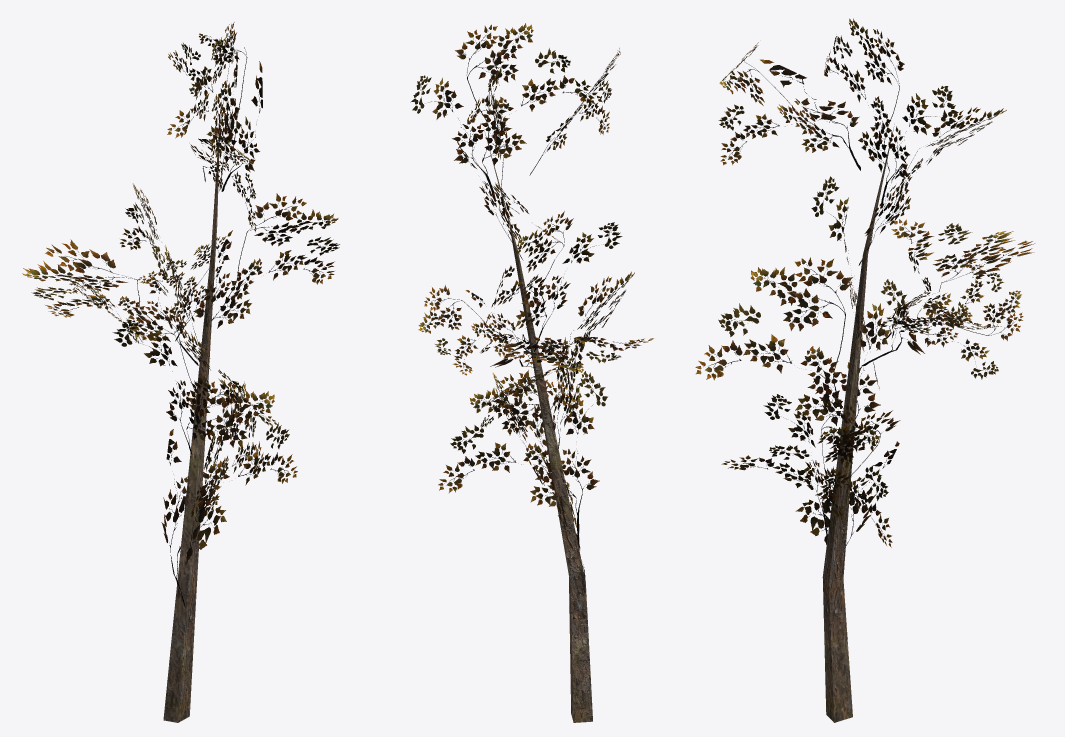
File: tree_2_lod.dae
3 views of the same model, side by side, from view 1: azimuth 30°, elevation 25°; view 2: azimuth 150°, elevation 25°; view 3: azimuth 270°, elevation 25° (orthographic). The views are drawn at different scales.
Visible parts, largest first — view 1: Mesh_Object; view 2: Mesh_Object; view 3: Mesh_Object.
Boxes of the visible parts, left/top/right/bottom form: Mesh_Object: left=22, top=22, right=339, bottom=722; Mesh_Object: left=410, top=23, right=653, bottom=722; Mesh_Object: left=695, top=18, right=1035, bottom=722.
Bounding box in the file's own units: 3.25 × 7.39 × 3.33.
